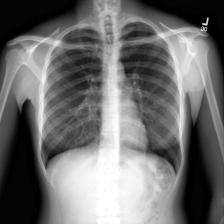normal: (36, 18, 184, 182)
